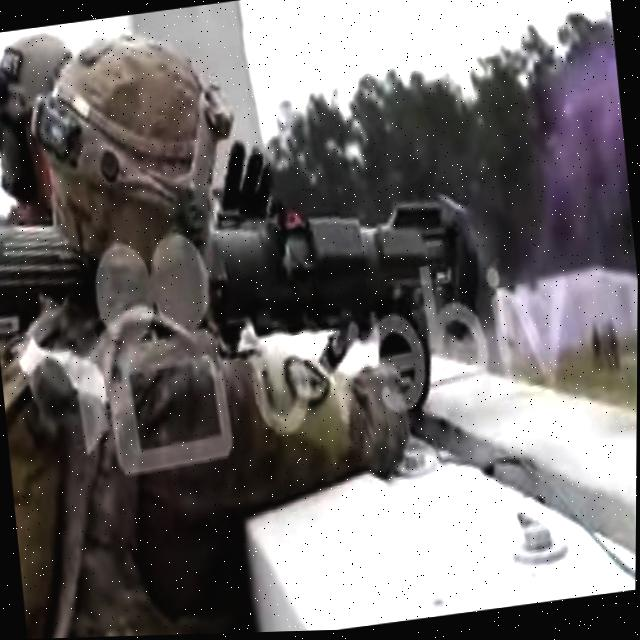rocket: (0, 131, 489, 410)
